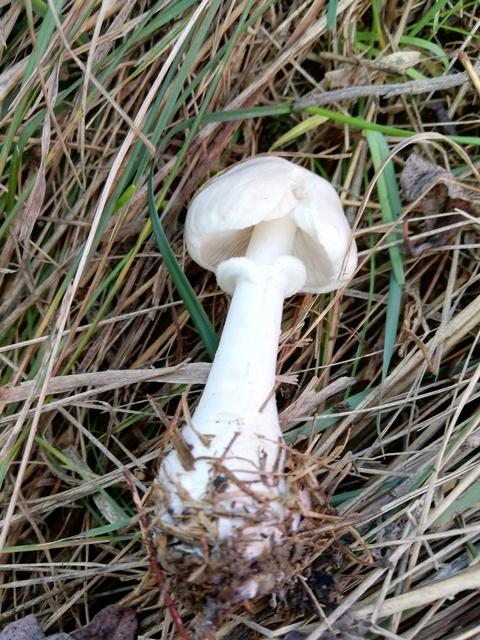Non-edible Mushroom: (152, 153, 358, 548)
